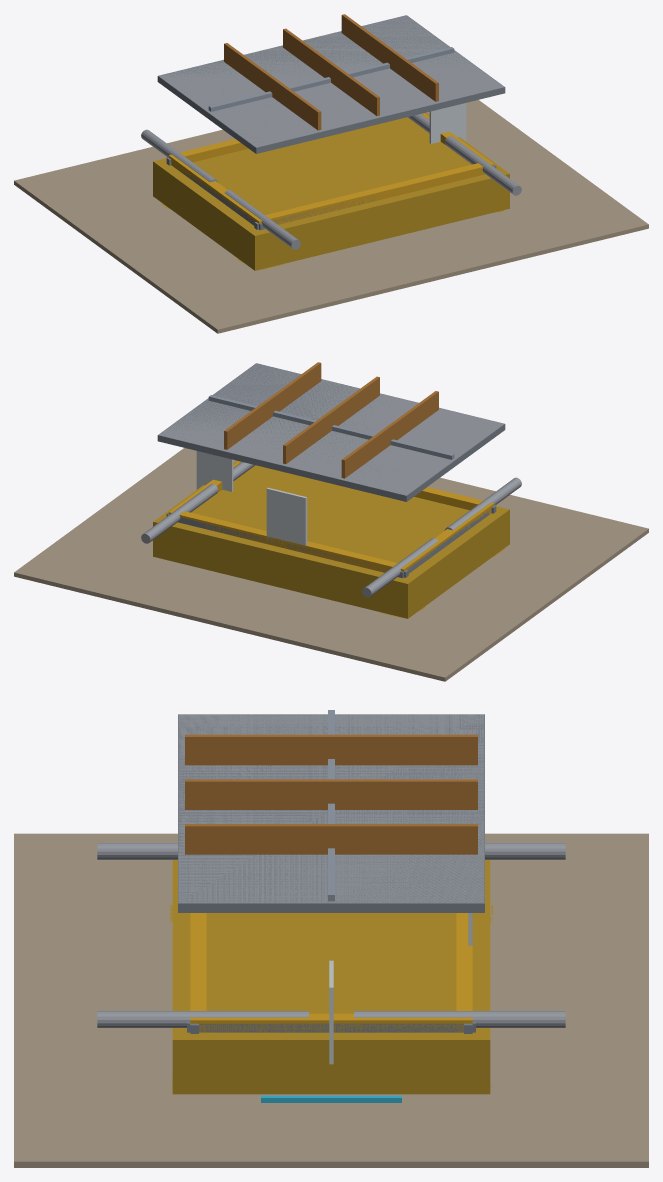
File: stage_09_roof_structure.glb
3 renders of one model, top to bottom at view 1: azimuth 30°, elevation 25°; view 2: azimuth 150°, elevation 25°; view 3: azimuth 270°, elevation 25°, orthographic. The views are drawn at different scales.
Visible parts, largest first — view 1: world; view 2: world; view 3: world.
Part boxes in pixels (x1,y1,x2,y2): world: [14, 14, 648, 333]; world: [14, 362, 648, 681]; world: [14, 710, 648, 1167].
Bounding box in the file's own units: 11 × 4.2 × 9.
